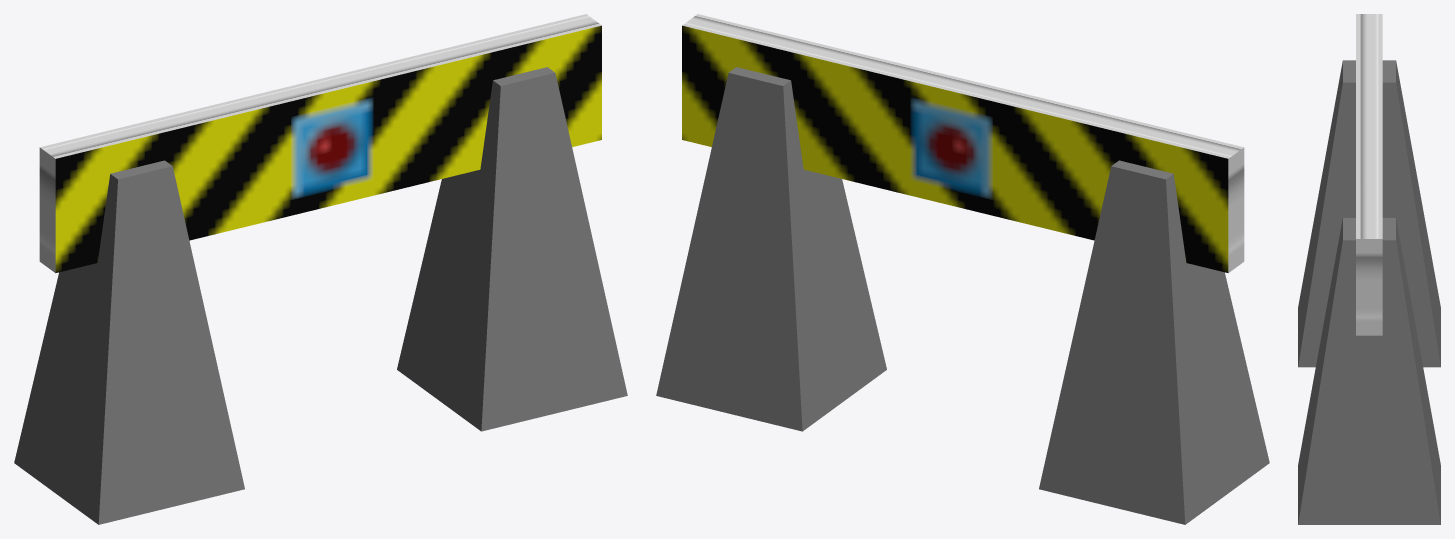
File: barrier0.obj
The picture shows the model from 3 angles, left to right: view 1: azimuth 30°, elevation 25°; view 2: azimuth 150°, elevation 25°; view 3: azimuth 270°, elevation 25°; orthographic projection. The views are drawn at different scales.
Parts seen in each view (by area): view 1: ColobotMesh_1_ColobotMesh_; view 2: ColobotMesh_1_ColobotMesh_; view 3: ColobotMesh_1_ColobotMesh_.
Boxes of the visible parts, bbox=[...] form: ColobotMesh_1_ColobotMesh_: bbox=[14, 14, 627, 524]; ColobotMesh_1_ColobotMesh_: bbox=[656, 14, 1269, 524]; ColobotMesh_1_ColobotMesh_: bbox=[1298, 14, 1440, 524].
Bounding box in the file's own units: 10 × 6 × 2.68.
